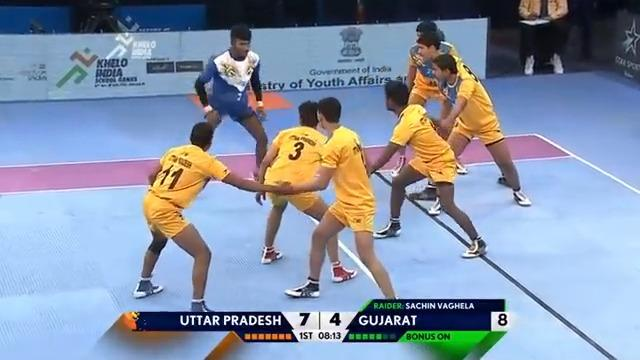Player: (132, 119, 289, 312), (275, 96, 398, 300), (406, 29, 532, 208), (364, 79, 488, 258), (398, 21, 465, 201)
Raider: (192, 23, 269, 203)
referee: (516, 0, 570, 75), (78, 0, 122, 33)
